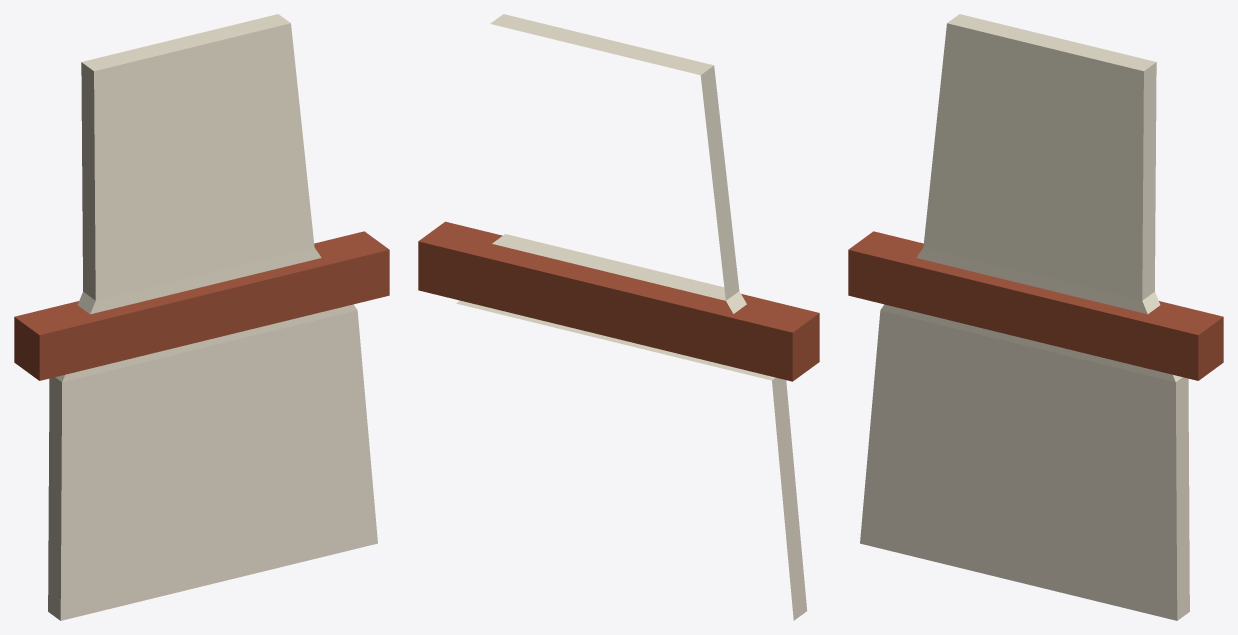
File: work-apron.glb
The picture shows the model from 3 angles, left to right: view 1: azimuth 30°, elevation 25°; view 2: azimuth 150°, elevation 25°; view 3: azimuth 330°, elevation 25°; orthographic projection. The views are drawn at different scales.
Parts seen in each view (by area): view 1: work-apron; view 2: work-apron; view 3: work-apron.
Part boxes in pixels (left/top/right/bottom): work-apron: left=14, top=14, right=389, bottom=620; work-apron: left=418, top=14, right=819, bottom=620; work-apron: left=848, top=14, right=1223, bottom=620.
Size of the model in its own units: 0.64 by 0.9 by 0.125.
1 material, 1 textured.
